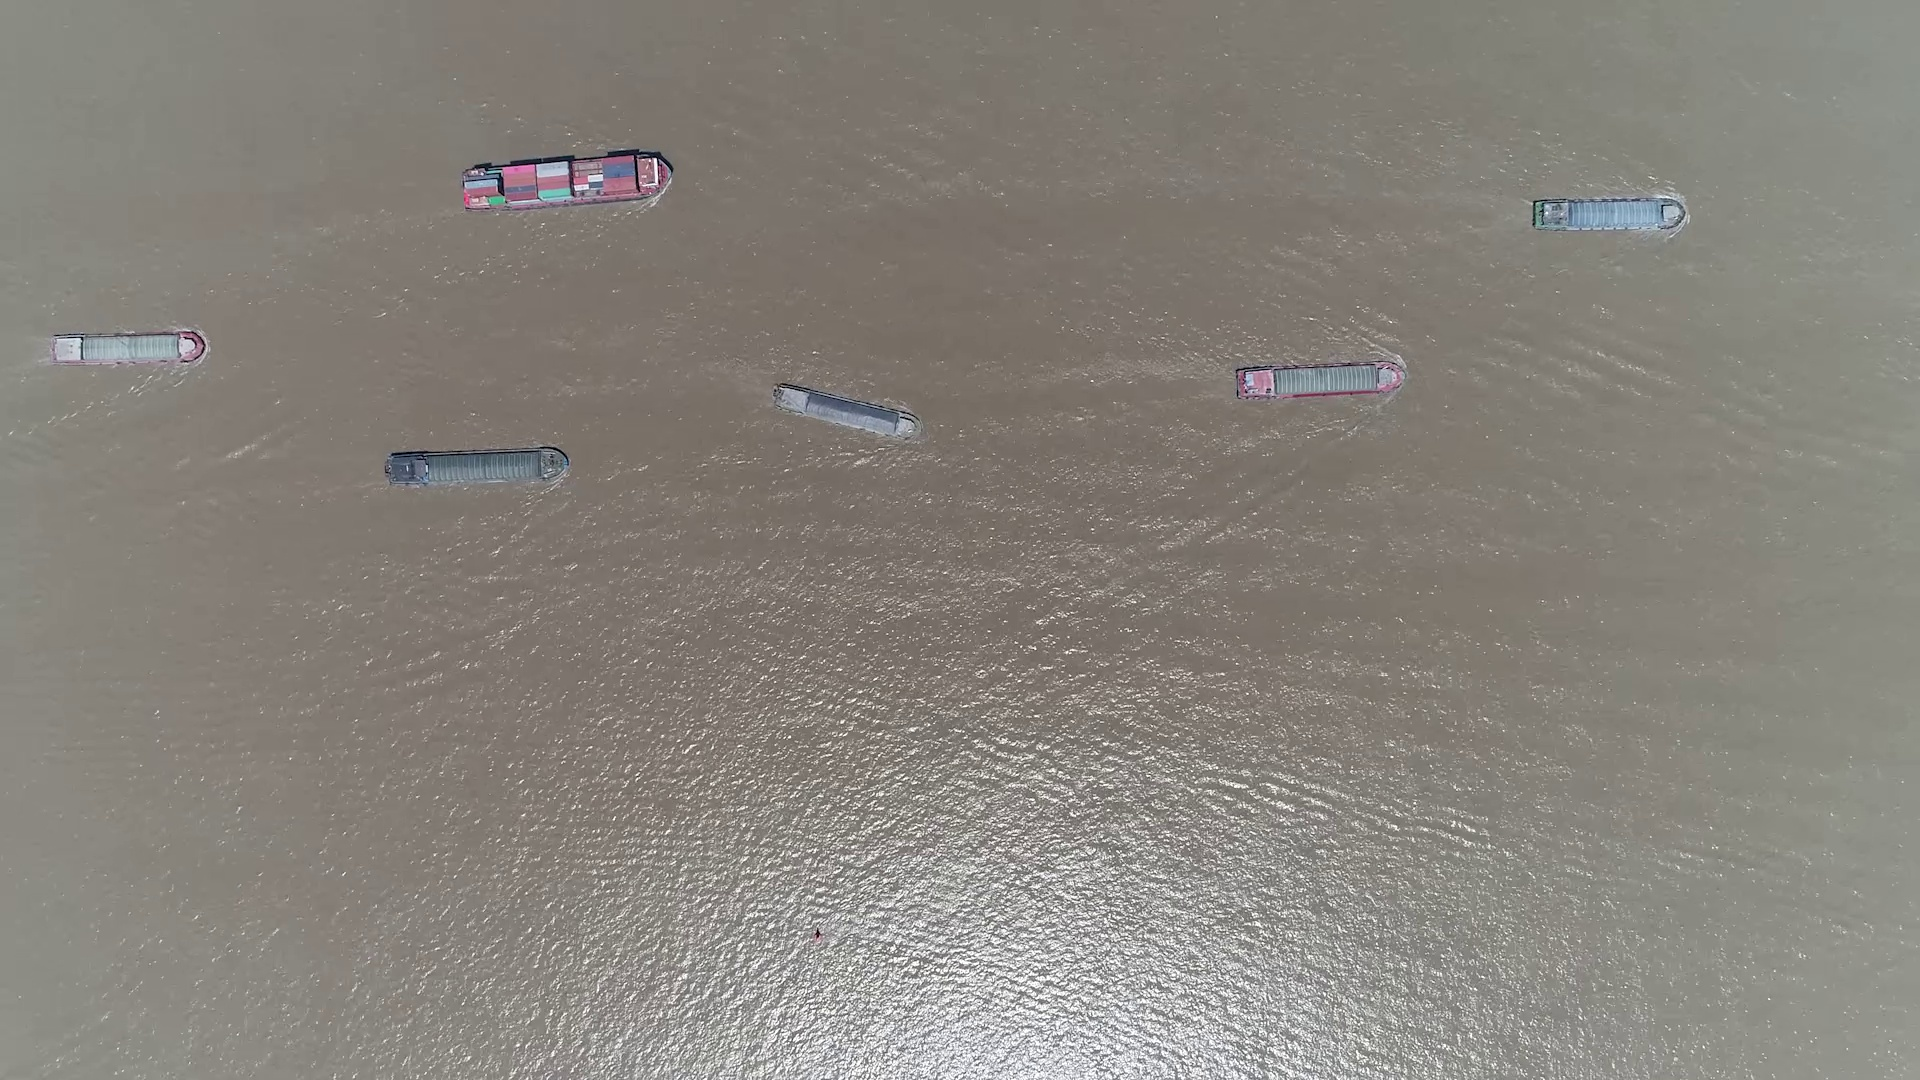ship: (460, 153, 673, 211), (771, 382, 922, 440), (385, 447, 567, 485), (1236, 360, 1406, 401), (49, 331, 203, 364), (1534, 198, 1684, 231)
